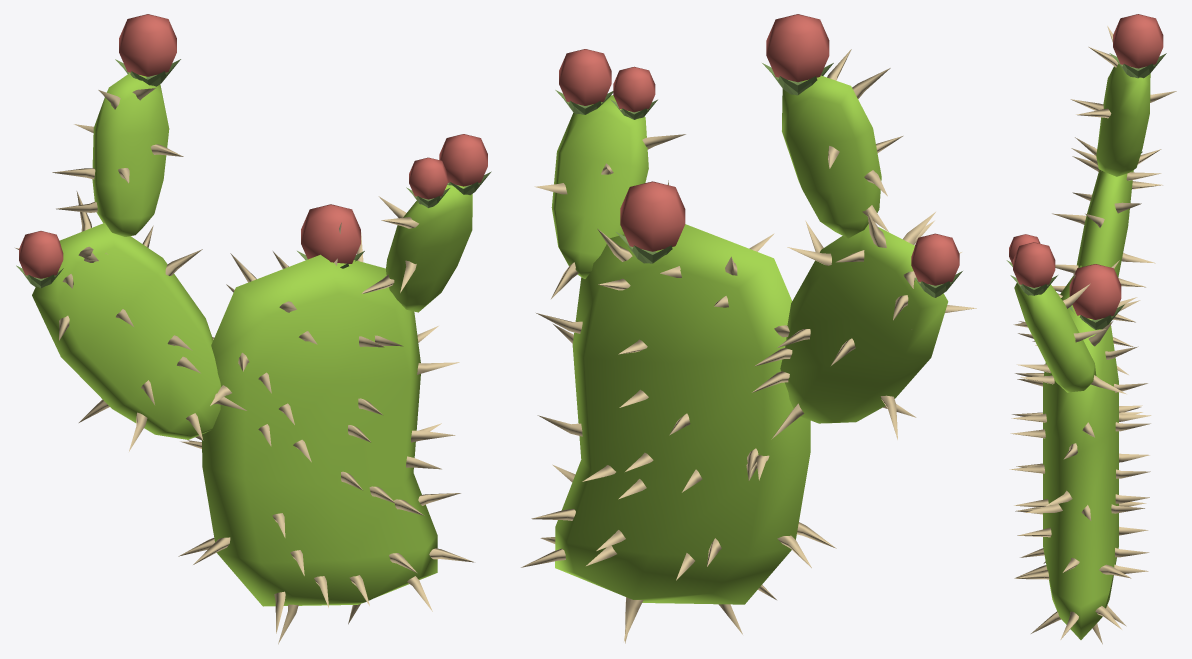
File: MCactus1.fbx
3 renders of one model, left to right at view 1: azimuth 30°, elevation 25°; view 2: azimuth 150°, elevation 25°; view 3: azimuth 270°, elevation 25°, orthographic. The views are drawn at different scales.
Visible parts, largest first — view 1: MCactus1; view 2: MCactus1; view 3: MCactus1.
Part boxes in pixels (x1,y1,x2,y2): MCactus1: [15, 14, 491, 644]; MCactus1: [521, 14, 976, 643]; MCactus1: [1006, 14, 1176, 644].
Size of the model in its own units: 253 by 367 by 103.
